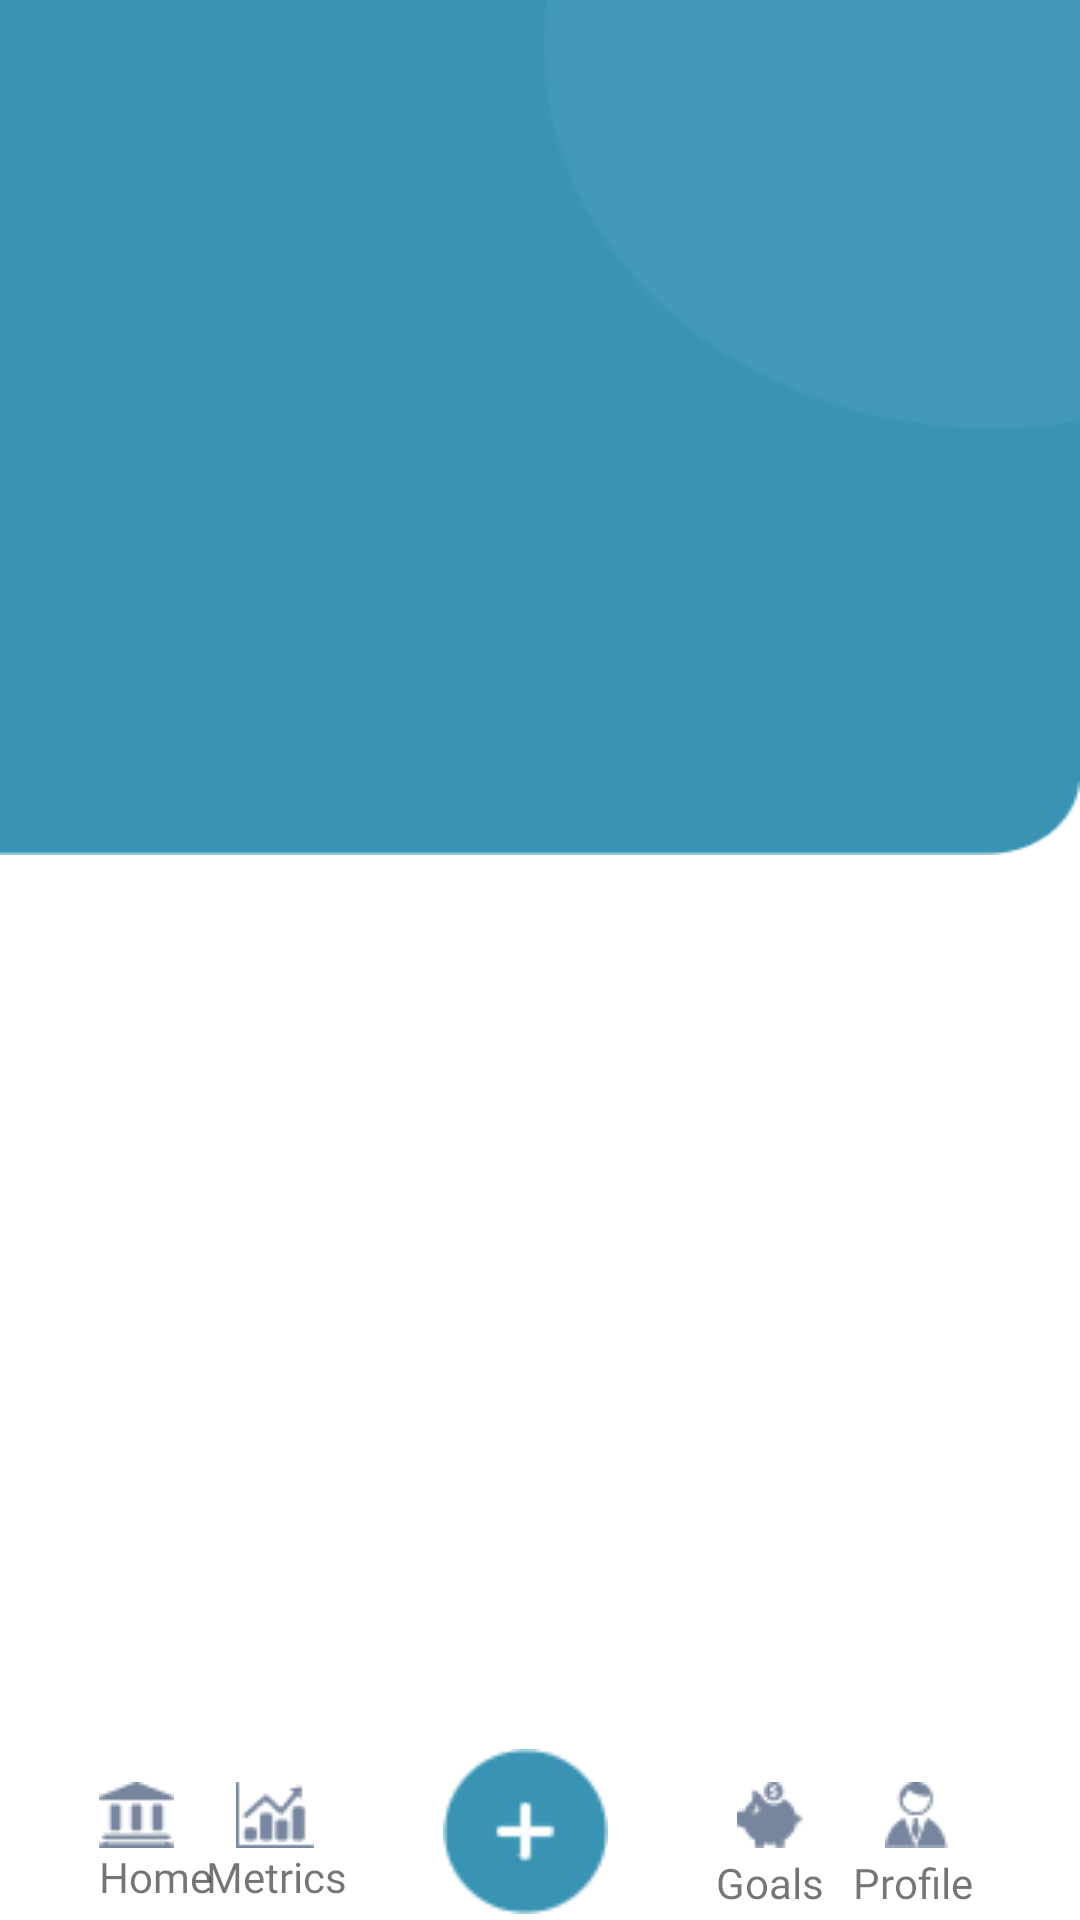

Where to tap for icons on this 1080w x 1920h app screen, as (x=x, y=y):
banco: (x=136, y=1815)
cerdo: (x=770, y=1815)
registro: (x=525, y=1831)
